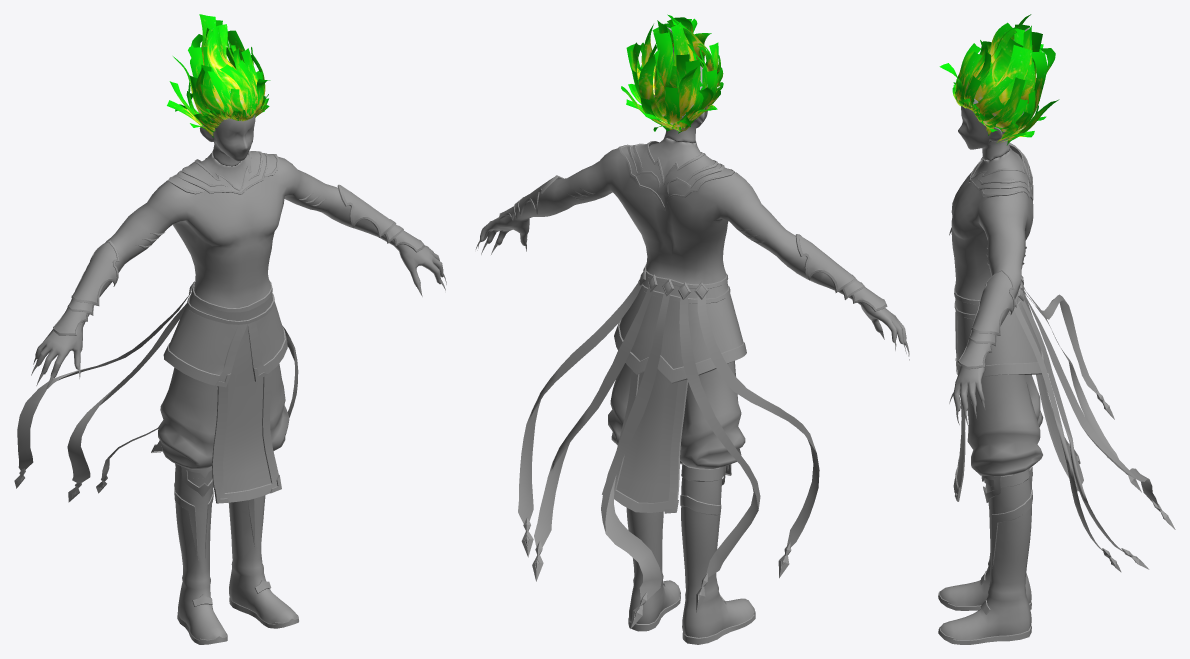
Rendered from H_01736_Hair_00.fbx.
The picture shows the model from 3 angles, left to right: view 1: azimuth 30°, elevation 25°; view 2: azimuth 150°, elevation 25°; view 3: azimuth 270°, elevation 25°; orthographic projection. The views are drawn at different scales.
Parts seen in each view (by area): view 1: Top, Bottom, Shoe, Hair, Face; view 2: Bottom, Top, Shoe, Hair; view 3: Bottom, Top, Shoe, Hair, Face.
Boxes of the visible parts, x1,y1,x2,y2 form: Top: (31,150,446,389); Bottom: (14,281,298,503); Shoe: (174,463,298,644); Hair: (167,14,270,137); Face: (199,114,255,163); Bottom: (518,264,819,628); Top: (475,133,909,360); Shoe: (626,462,755,644); Hair: (621,14,723,133); Bottom: (953,275,1175,572); Top: (949,142,1033,425); Shoe: (938,466,1032,644); Hair: (939,14,1059,145); Face: (958,106,1009,157).
Size of the model in its own units: 2.91 by 4.01 by 1.44.
